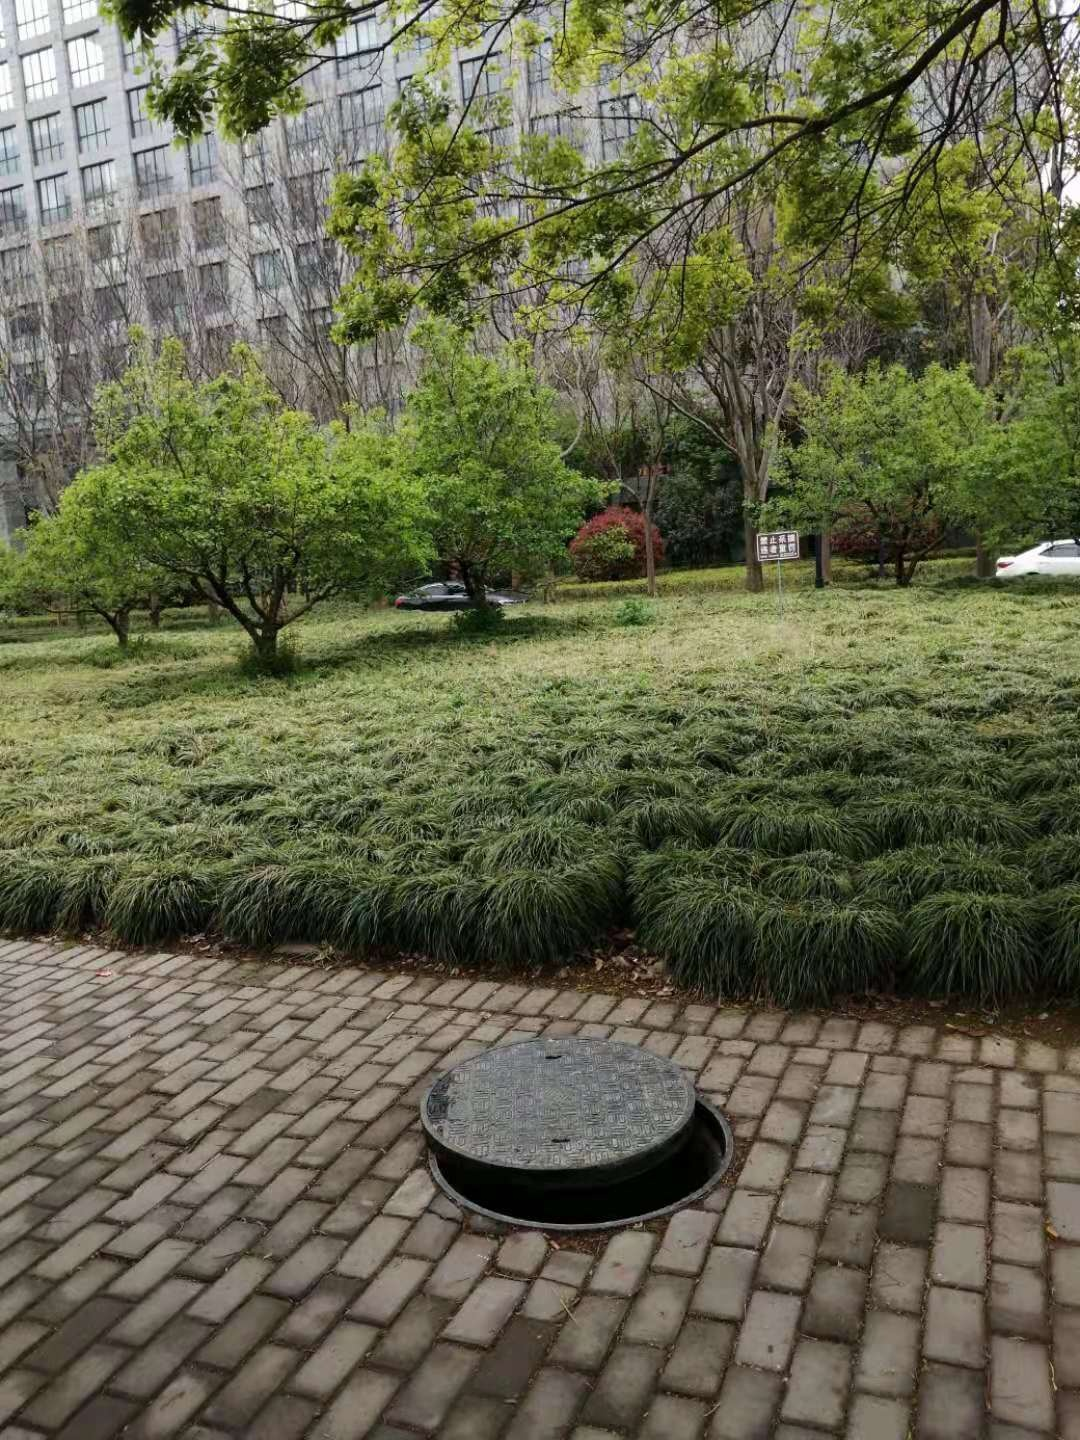well: (416, 1032, 739, 1231)
